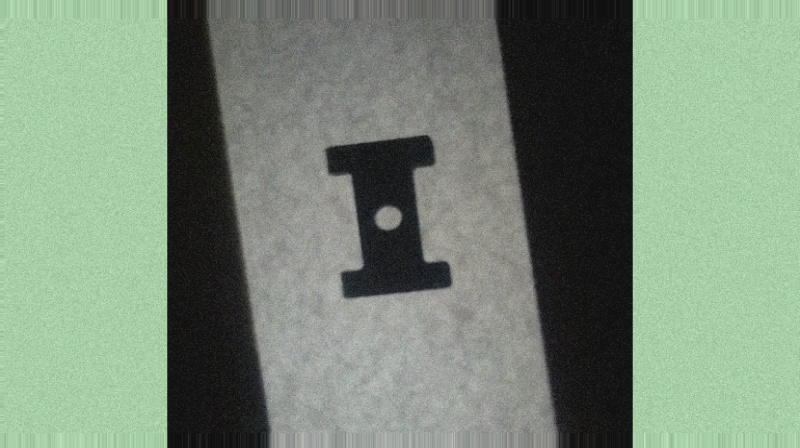O002: (321, 132, 453, 303)
